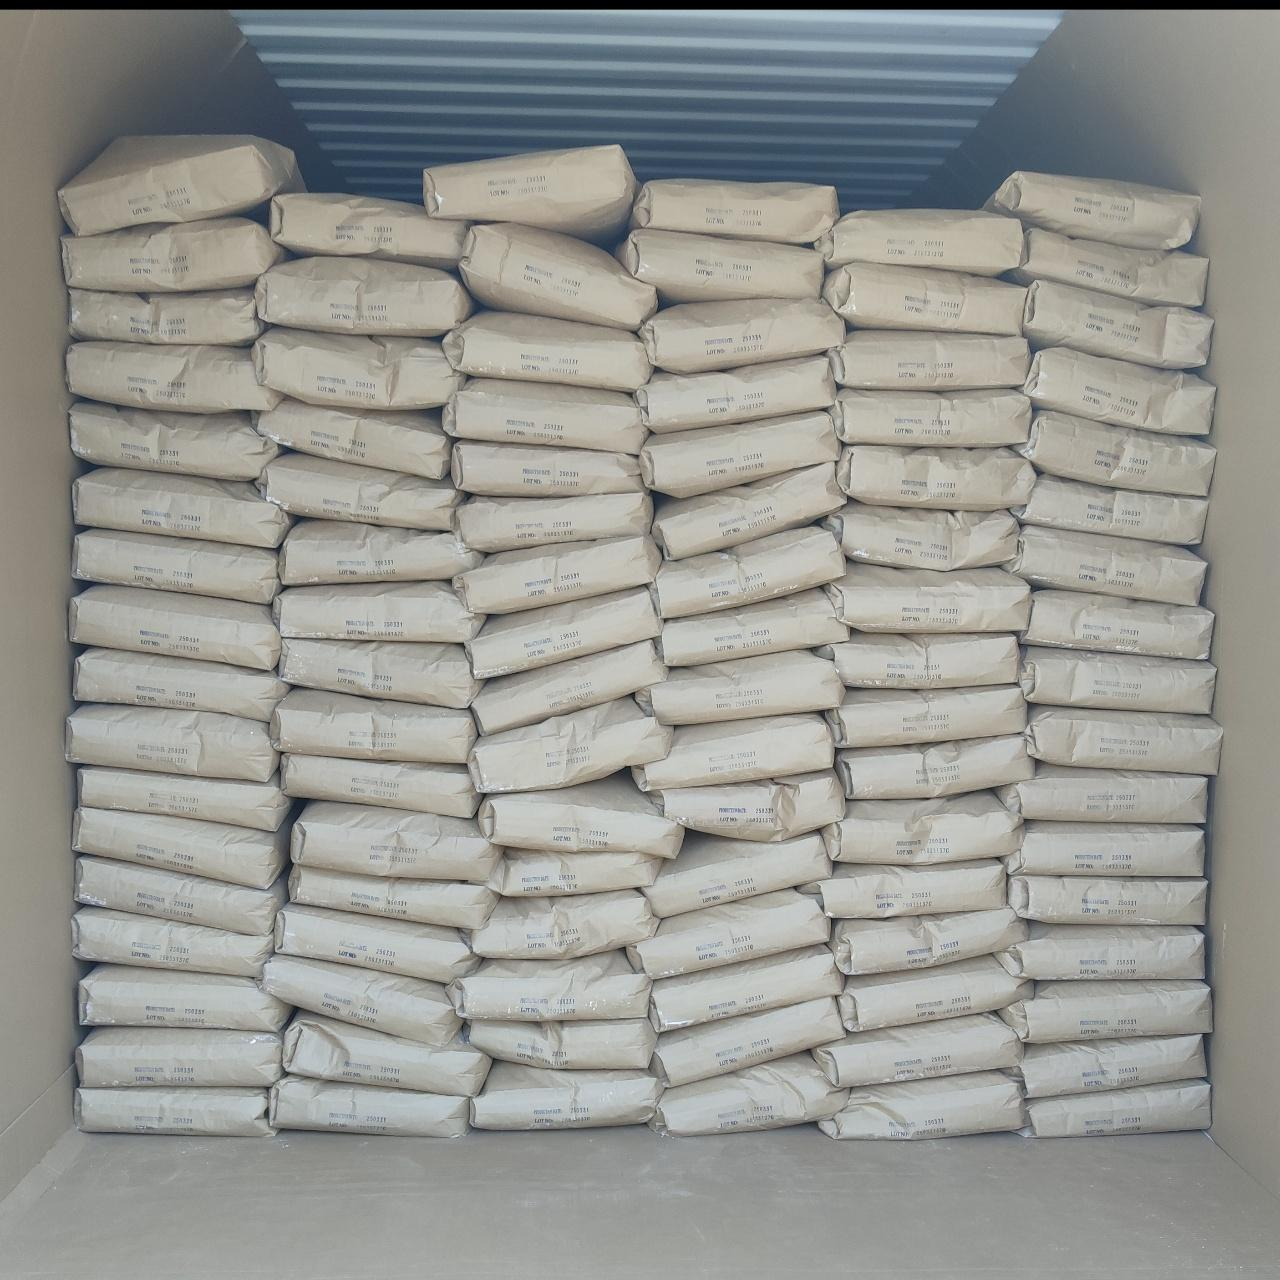sack: (58, 134, 304, 235), (459, 223, 657, 330), (423, 145, 635, 237), (468, 697, 672, 792), (654, 462, 846, 559), (472, 640, 668, 734), (465, 587, 662, 678), (626, 891, 830, 978), (69, 585, 280, 669), (72, 467, 293, 547), (655, 526, 844, 619), (72, 807, 288, 888), (650, 997, 845, 1086), (262, 954, 461, 1041), (1014, 410, 1215, 496), (252, 327, 462, 409), (639, 411, 839, 497), (283, 1011, 490, 1094), (255, 257, 474, 335), (983, 171, 1199, 250), (74, 855, 287, 935), (478, 775, 683, 858), (291, 802, 501, 883), (62, 216, 285, 292), (650, 945, 843, 1032), (442, 311, 651, 391), (1023, 347, 1213, 435), (1022, 280, 1212, 368), (69, 401, 279, 479), (1001, 526, 1206, 605), (643, 831, 831, 917), (652, 1053, 849, 1135), (66, 704, 277, 780), (72, 648, 288, 722), (257, 453, 464, 530), (454, 536, 661, 613), (255, 398, 451, 479), (632, 713, 834, 791), (1014, 227, 1207, 308), (66, 341, 283, 413), (271, 688, 476, 764), (639, 298, 845, 373), (634, 651, 845, 724), (277, 904, 477, 981), (636, 355, 836, 432), (72, 529, 280, 603), (615, 228, 823, 302), (812, 1014, 1022, 1087), (443, 379, 647, 454), (822, 262, 1026, 335), (271, 193, 468, 268), (659, 588, 848, 666), (822, 791, 1022, 864), (841, 955, 1032, 1031), (72, 907, 272, 978), (449, 950, 651, 1020), (80, 964, 290, 1031), (819, 1071, 1025, 1139), (823, 564, 1028, 632), (279, 517, 483, 585), (1025, 705, 1222, 775), (814, 211, 1024, 276), (1012, 474, 1207, 544), (77, 767, 290, 831), (280, 641, 480, 708), (650, 769, 841, 839), (819, 503, 1017, 570), (830, 907, 1027, 974), (1021, 589, 1212, 658), (289, 864, 498, 927), (1019, 647, 1215, 714), (632, 180, 839, 243), (470, 890, 658, 959), (836, 734, 1034, 799), (1001, 981, 1211, 1042), (471, 1061, 661, 1128), (281, 754, 480, 817), (837, 446, 1035, 509), (273, 582, 484, 641), (999, 762, 1206, 822), (454, 490, 653, 552), (77, 1027, 282, 1087), (271, 1075, 469, 1137), (799, 860, 1007, 919), (825, 686, 1023, 747), (829, 331, 1030, 390), (814, 633, 1020, 689), (1020, 1035, 1206, 1097), (69, 286, 264, 345), (995, 922, 1203, 977), (829, 389, 1030, 445), (1017, 1080, 1210, 1137), (1006, 821, 1204, 875), (451, 441, 643, 495), (76, 1087, 272, 1136), (464, 1018, 655, 1067), (1008, 877, 1207, 924), (485, 851, 661, 896)
